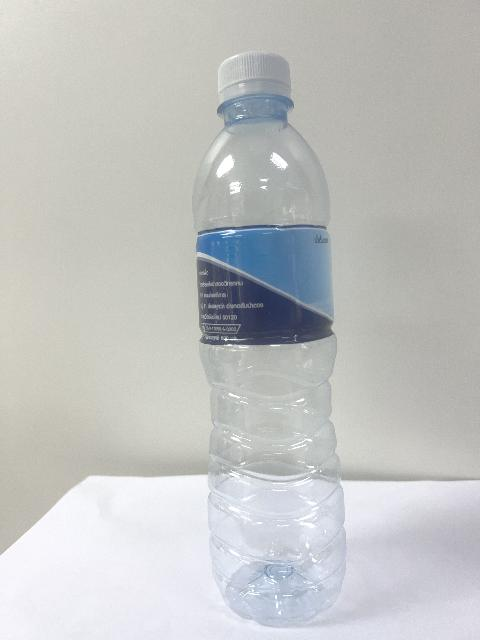bottle: (193, 52, 345, 626)
